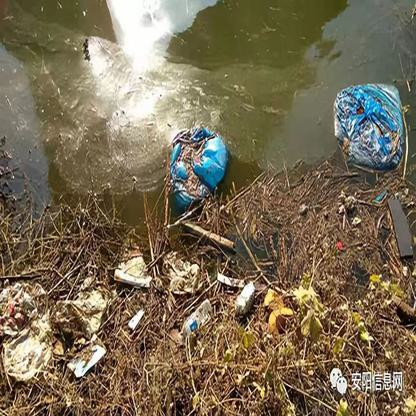foam: (114, 251, 153, 290)
plastic bag: (332, 81, 406, 169), (165, 127, 227, 204)
plastic bottle: (179, 299, 214, 340)
